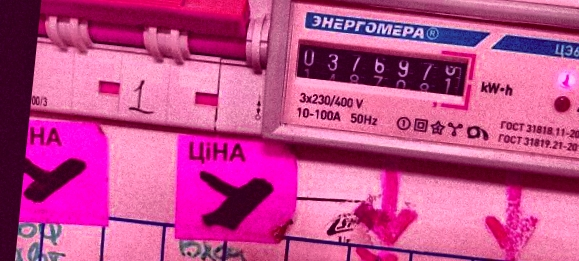0: (301, 46, 316, 67)
1: (441, 75, 454, 94)
3: (325, 50, 340, 71)
6: (372, 52, 387, 74)
7: (348, 50, 363, 73), (419, 59, 434, 82)
9: (396, 56, 410, 78)
screen: (286, 29, 481, 111)
